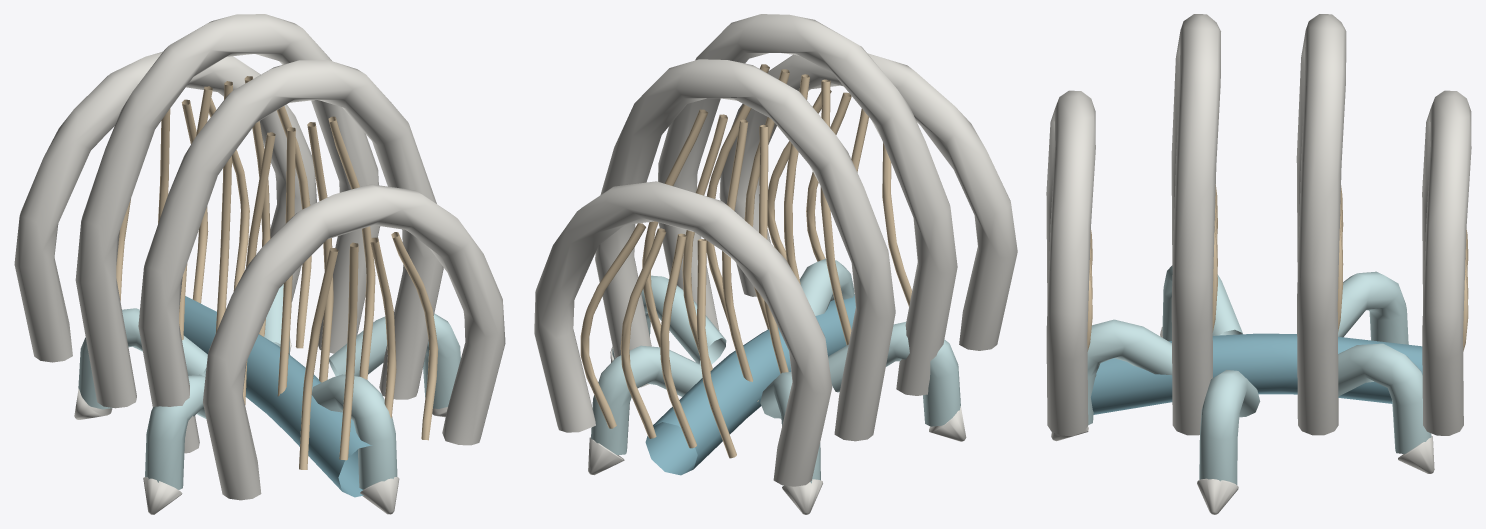
File: bio_blind_harp_06_far.glb
3 renders of one model, left to right at view 1: azimuth 30°, elevation 25°; view 2: azimuth 150°, elevation 25°; view 3: azimuth 270°, elevation 25°, orthographic.
Visible parts, largest first — view 1: Open rib arch.001, Open rib arch, Open rib arch.002, Open rib arch.003, Low axial spine, Resonance filament, Resonance filament.004, Resonance filament.008, Crooked support.003, Resonance filament.012, Crooked support.002, Crooked support.004 (+4 smaller); view 2: Open rib arch.002, Open rib arch.003, Open rib arch.001, Open rib arch, Low axial spine, Resonance filament.012, Resonance filament.008, Resonance filament.004, Crooked support, Resonance filament, Crooked support.002, Crooked support.004 (+5 smaller); view 3: Open rib arch.002, Open rib arch.001, Open rib arch.003, Open rib arch, Low axial spine, Crooked support, Crooked support.004, Crooked support.001, Crooked support.003, Crooked support.002, Contact spur.004, Contact spur (+2 smaller).
Boxes of the visible parts, bbox=[...] form: Open rib arch.001: bbox=[138, 60, 443, 453]; Open rib arch: bbox=[203, 184, 505, 500]; Open rib arch.002: bbox=[75, 14, 380, 408]; Open rib arch.003: bbox=[14, 51, 316, 362]; Low axial spine: bbox=[183, 296, 372, 497]; Resonance filament: bbox=[299, 232, 438, 469]; Resonance filament.004: bbox=[243, 116, 375, 405]; Resonance filament.008: bbox=[179, 76, 311, 348]; Crooked support.003: bbox=[312, 374, 397, 489]; Resonance filament.012: bbox=[116, 98, 249, 303]; Crooked support.002: bbox=[145, 374, 206, 489]; Crooked support.004: bbox=[329, 313, 460, 408]; Open rib arch.002: bbox=[595, 59, 895, 441]; Open rib arch.003: bbox=[534, 181, 832, 486]; Open rib arch.001: bbox=[658, 14, 957, 395]; Open rib arch: bbox=[719, 53, 1017, 350]; Low axial spine: bbox=[645, 294, 855, 475]; Resonance filament.012: bbox=[580, 223, 736, 458]; Resonance filament.008: bbox=[642, 109, 788, 401]; Resonance filament.004: bbox=[704, 64, 851, 345]; Crooked support: bbox=[591, 345, 702, 455]; Resonance filament: bbox=[767, 90, 911, 306]; Crooked support.002: bbox=[828, 322, 960, 426]; Crooked support.004: bbox=[612, 275, 726, 364]; Open rib arch.002: bbox=[1296, 14, 1346, 435]; Open rib arch.001: bbox=[1171, 14, 1220, 435]; Open rib arch.003: bbox=[1422, 90, 1471, 435]; Open rib arch: bbox=[1046, 90, 1095, 435]; Low axial spine: bbox=[1091, 333, 1422, 414]; Crooked support: bbox=[1338, 343, 1431, 453]; Crooked support.004: bbox=[1199, 369, 1260, 484]; Crooked support.001: bbox=[1338, 271, 1408, 344]; Crooked support.003: bbox=[1087, 319, 1172, 424]; Crooked support.002: bbox=[1162, 265, 1242, 341]; Contact spur.004: bbox=[1197, 478, 1238, 514]; Contact spur: bbox=[1398, 435, 1434, 473].
Size of the model in its own units: 1.91 by 2.19 by 2.09.
